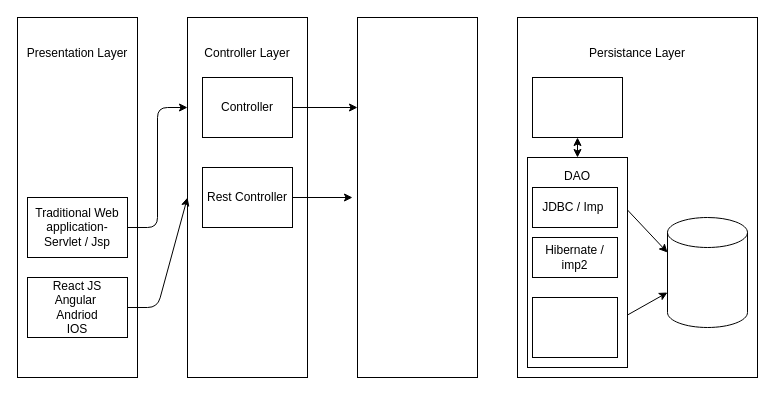
The diagram is 775 pixels wide and 395 high, and some of its shapes have lost their labels. Each missing label, with the centre of its shape:
"Beans / DTO" belongs at (x=577, y=107).
"Buisness Server Layer" belongs at (x=417, y=197).
"DataBase" belongs at (x=707, y=272).
"Spring JPA" belongs at (x=575, y=327).
